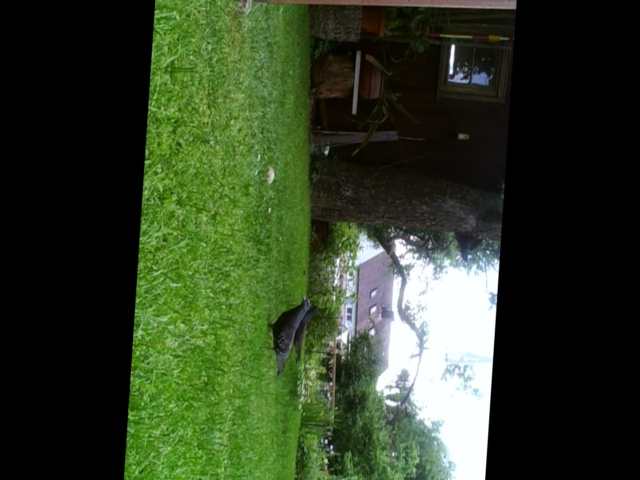Pigeon: (265, 296, 309, 375)
